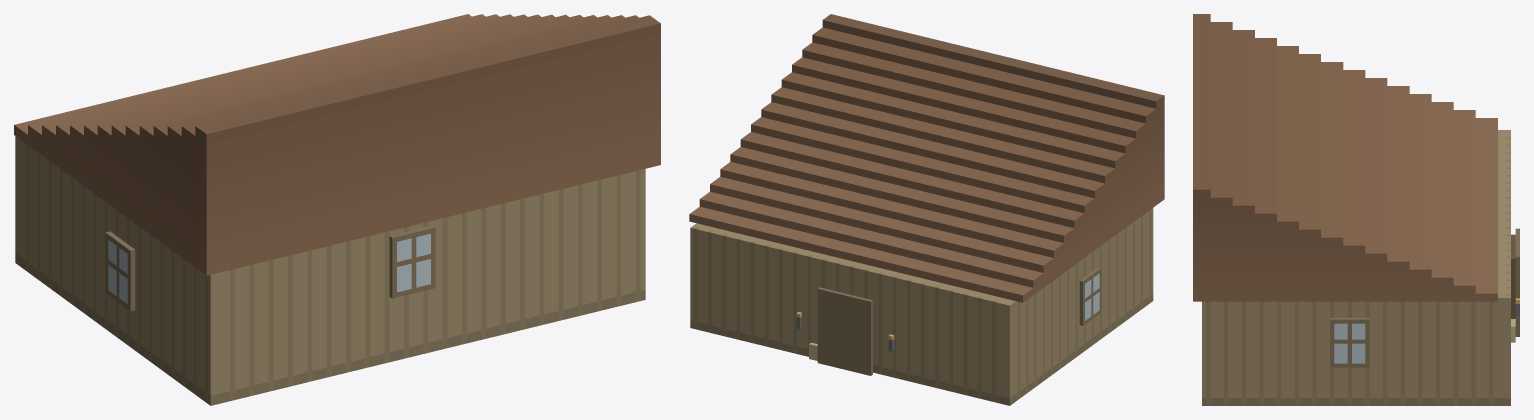
The model's file is molino_viento_02.glb.
3 renders of one model, left to right at view 1: azimuth 30°, elevation 25°; view 2: azimuth 150°, elevation 25°; view 3: azimuth 270°, elevation 25°, orthographic. The views are drawn at different scales.
Visible parts, largest first — view 1: molino_viento_02; view 2: molino_viento_02; view 3: molino_viento_02.
Boxes of the visible parts, box(x1,y1,x2,y2) form: molino_viento_02: box(14, 14, 660, 405); molino_viento_02: box(689, 14, 1164, 405); molino_viento_02: box(1193, 14, 1519, 405).
Size of the model in its own units: 9.4 by 5.5 by 7.4.
